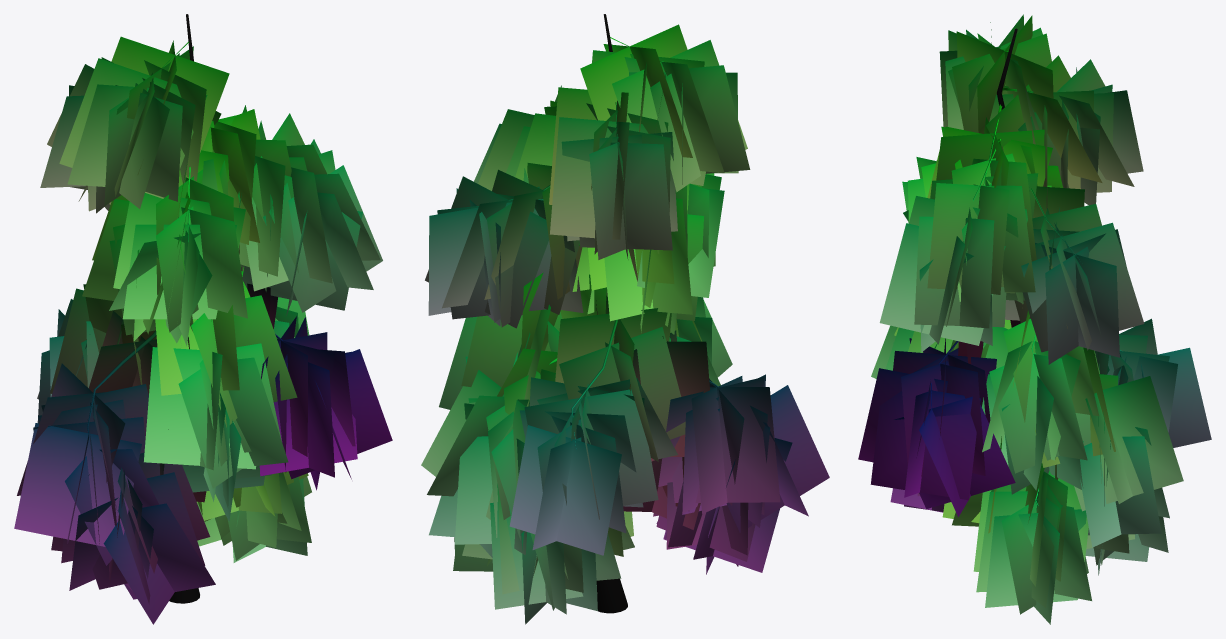
File: M_P13_Tree_9.fbx
3 renders of one model, left to right at view 1: azimuth 30°, elevation 25°; view 2: azimuth 150°, elevation 25°; view 3: azimuth 270°, elevation 25°, orthographic. The views are drawn at different scales.
Visible parts, largest first — view 1: Tree_9; view 2: Tree_9; view 3: Tree_9.
Boxes of the visible parts, x1,y1,x2,y2 form: Tree_9: [14, 14, 392, 624]; Tree_9: [421, 14, 829, 624]; Tree_9: [858, 14, 1211, 624].
Bounding box in the file's own units: 384 × 622 × 359.
